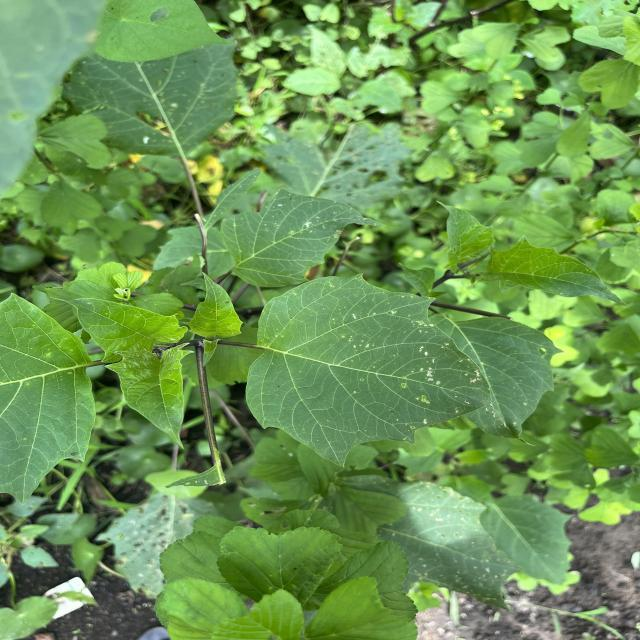Datura metal linn: (243, 270, 508, 470), (476, 233, 632, 310), (47, 293, 191, 365), (102, 341, 196, 451), (184, 269, 246, 340)
